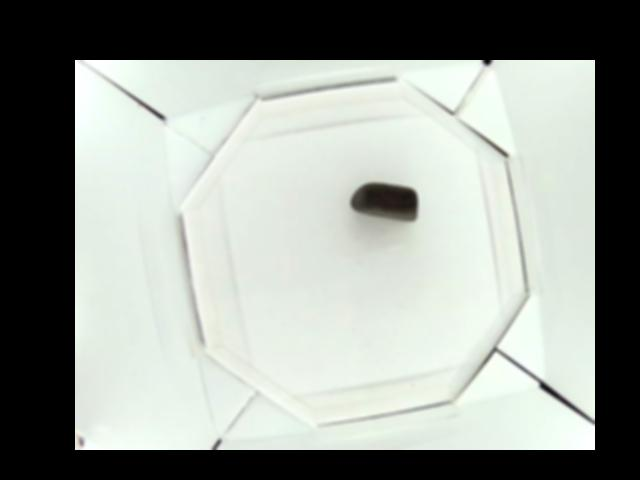Pebble: (350, 182, 421, 219)
